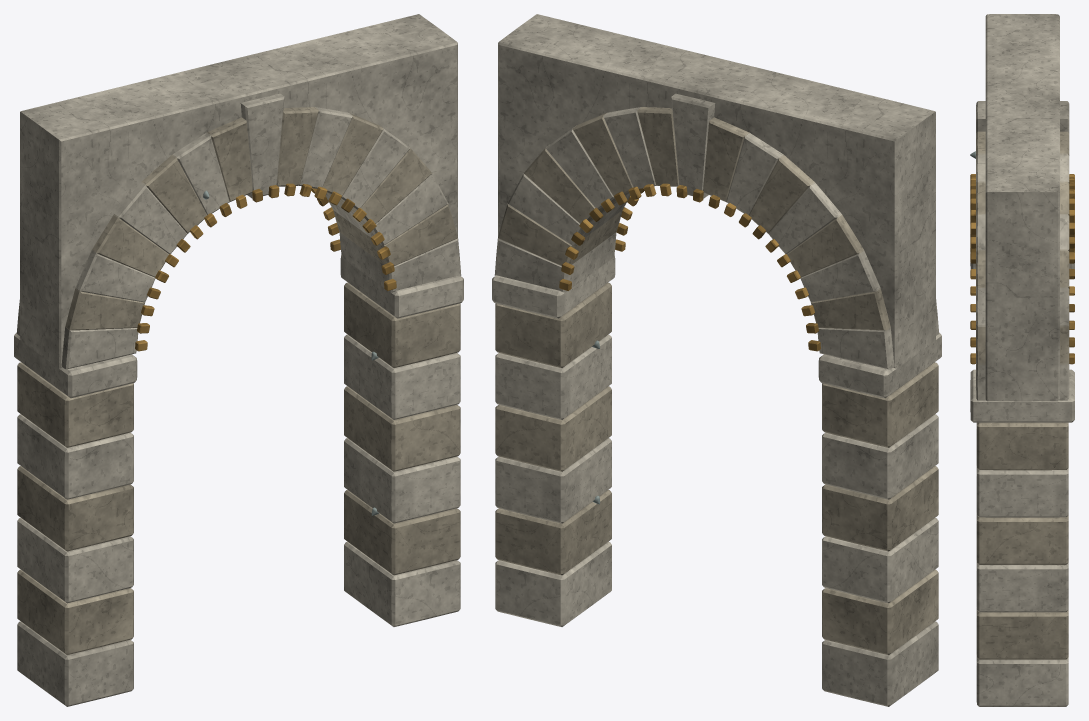
The picture shows the model from 3 angles, left to right: view 1: azimuth 30°, elevation 25°; view 2: azimuth 150°, elevation 25°; view 3: azimuth 270°, elevation 25°; orthographic projection. The views are drawn at different scales.
Parts seen in each view (by area): view 1: carved-limestone-mouldings, honed-limestone, aged-bronze; view 2: carved-limestone-mouldings, honed-limestone, aged-bronze; view 3: carved-limestone-mouldings, honed-limestone, aged-bronze.
Part boxes in pixels (x1,y1,x2,y2): carved-limestone-mouldings: (14,14,463,706); honed-limestone: (17,107,460,654); aged-bronze: (135,183,396,351); carved-limestone-mouldings: (492,14,941,706); honed-limestone: (495,107,938,654); aged-bronze: (559,183,820,351); carved-limestone-mouldings: (970,14,1074,706); honed-limestone: (976,131,1069,659); aged-bronze: (970,174,1074,364).
Size of the model in its own units: 2.02 by 2.73 by 0.5022.
5 materials, 3 textured.
